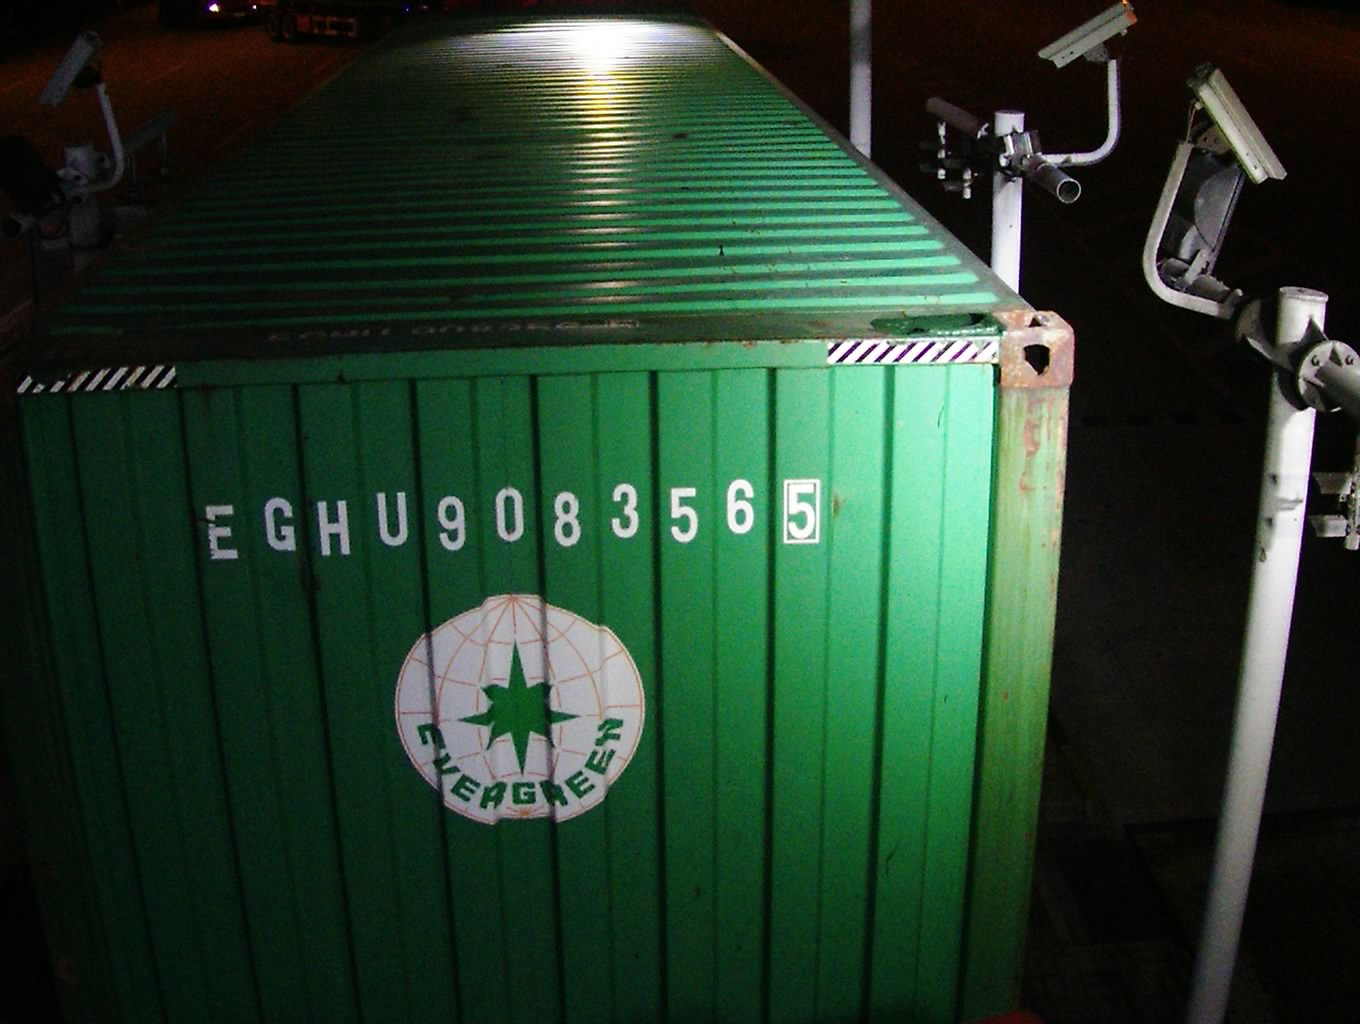words: (184, 477, 825, 570)
